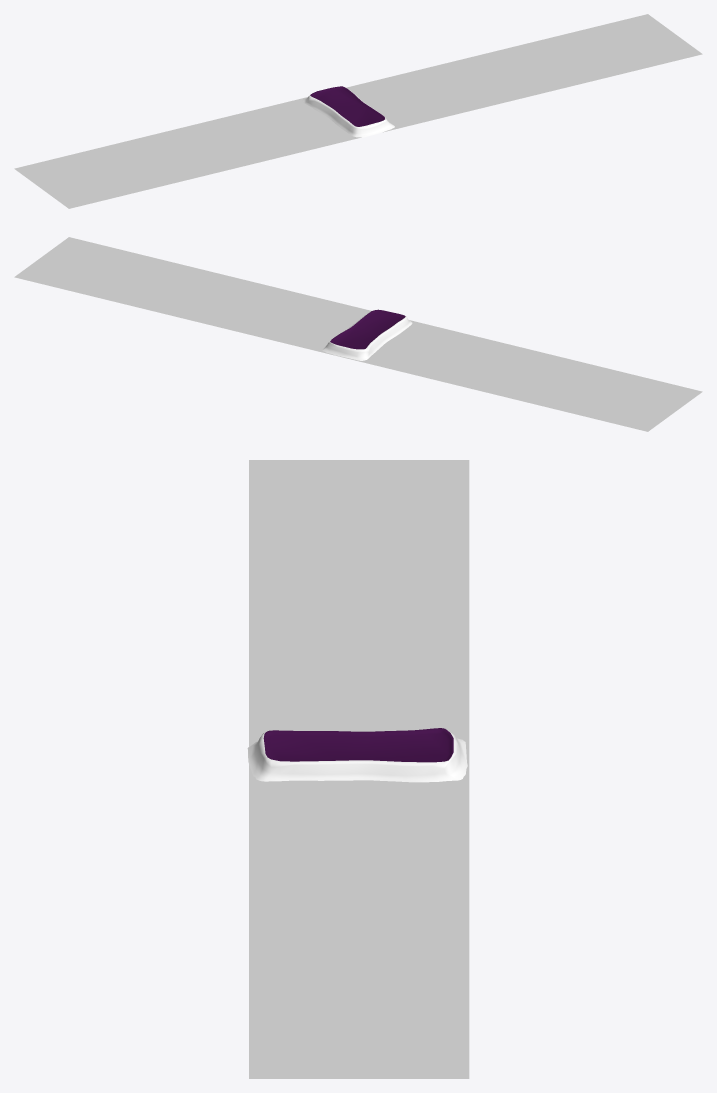
The model's file is Chunk5.glb.
3 renders of one model, top to bottom at view 1: azimuth 30°, elevation 25°; view 2: azimuth 150°, elevation 25°; view 3: azimuth 270°, elevation 25°, orthographic. The views are drawn at different scales.
Visible parts, largest first — view 1: Base2.009, Large Crater.003; view 2: Base2.009, Large Crater.003; view 3: Base2.009, Large Crater.003.
Part boxes in pixels (x1,y1,x2,y2): Base2.009: [14, 14, 702, 208]; Large Crater.003: [302, 86, 394, 137]; Base2.009: [14, 237, 702, 431]; Large Crater.003: [322, 309, 412, 360]; Base2.009: [249, 460, 469, 1078]; Large Crater.003: [247, 728, 467, 782].
Size of the model in its own units: 266 by 3.18 by 40.24.
